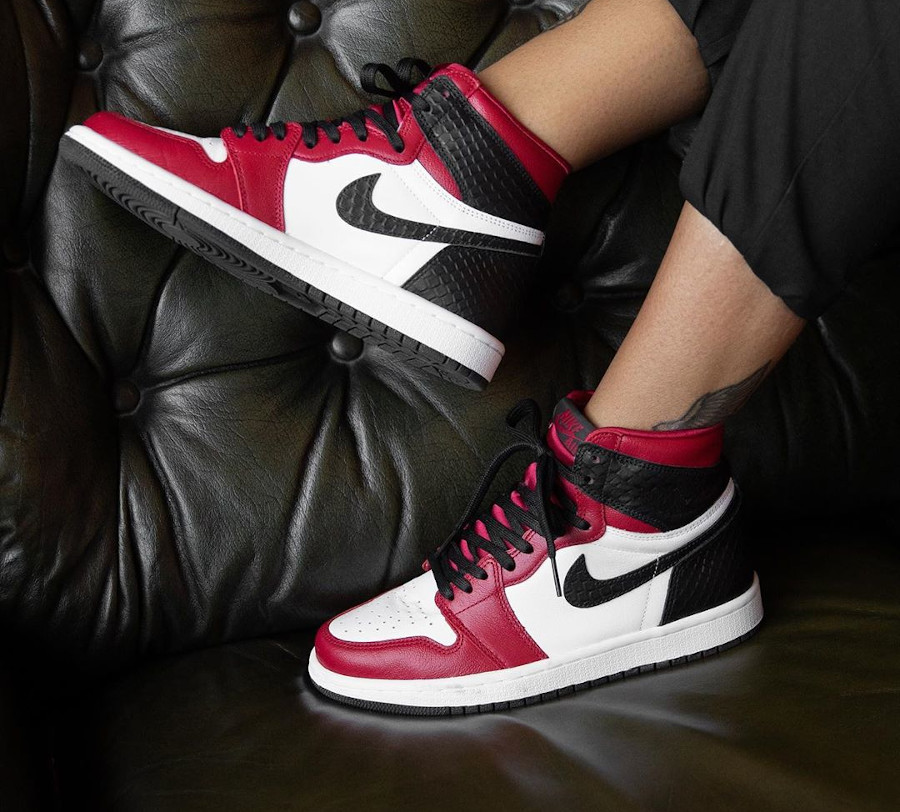Jordan 1: (55, 57, 584, 393), (300, 384, 777, 721)
